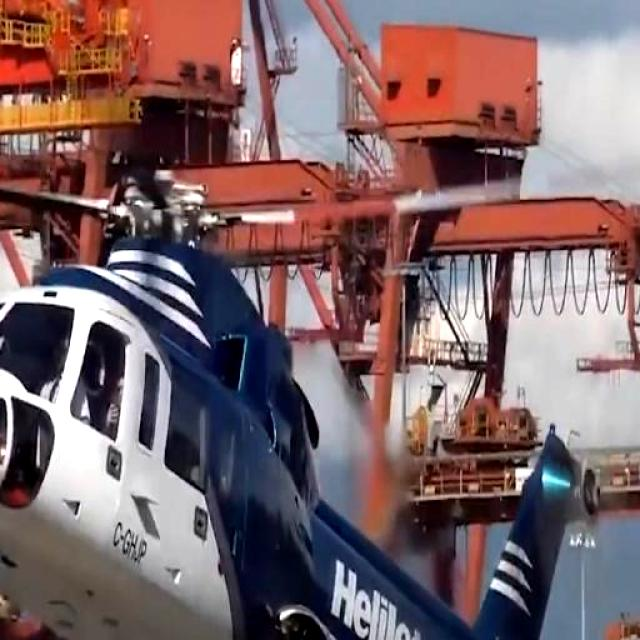drone: (0, 152, 584, 640)
